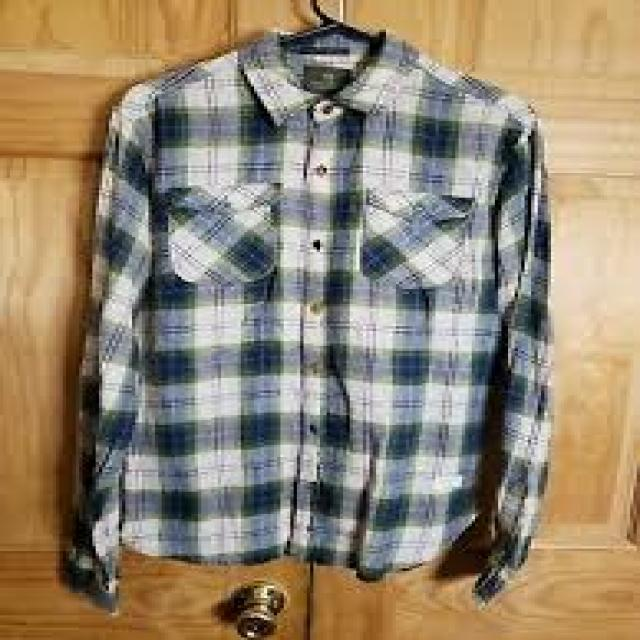plaid: (75, 38, 571, 594)
